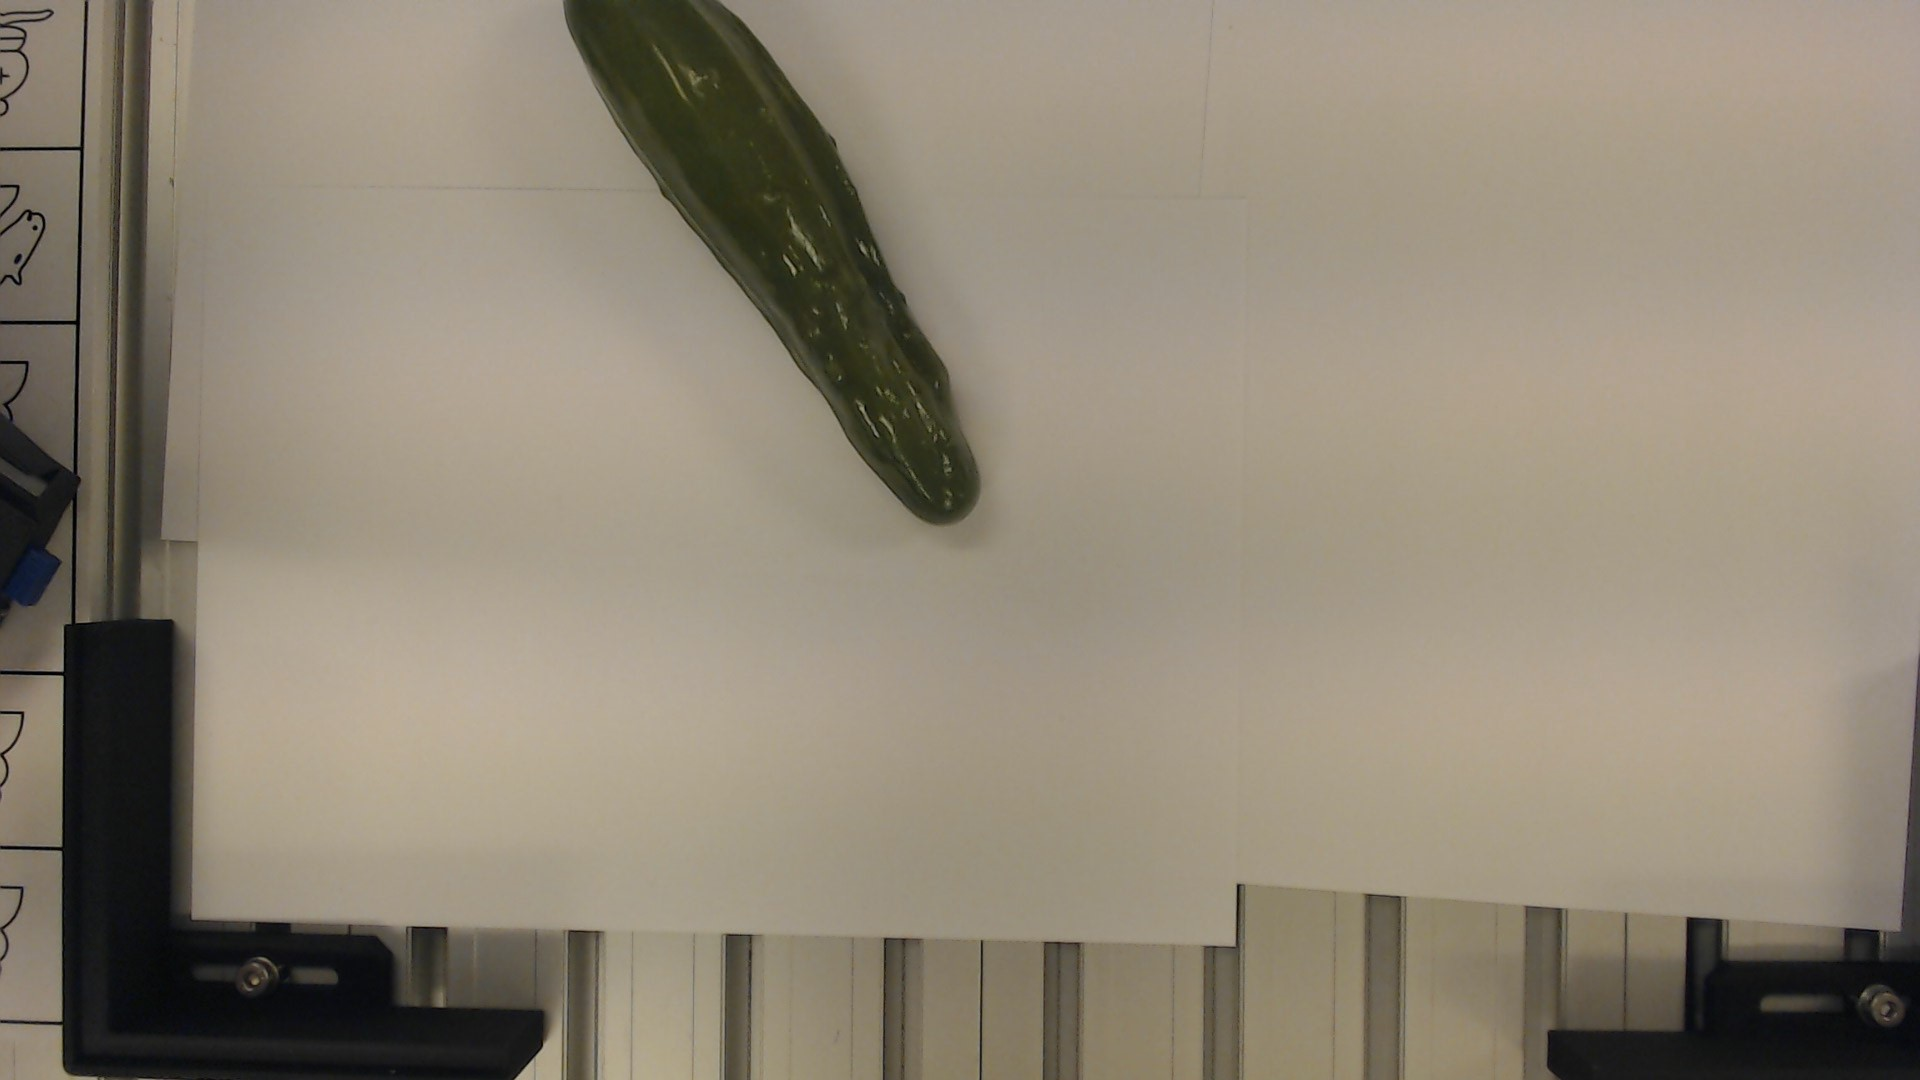Cucumber: (514, 3, 986, 525)
